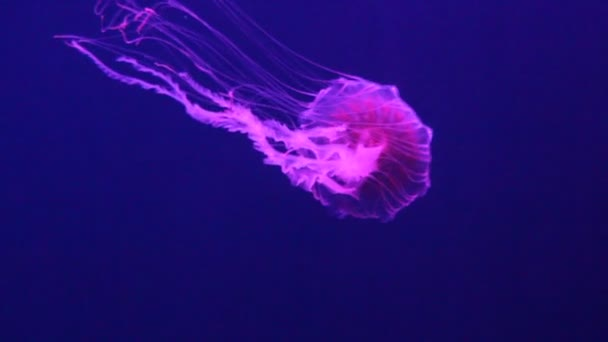jellyfish: (117, 6, 437, 226)
